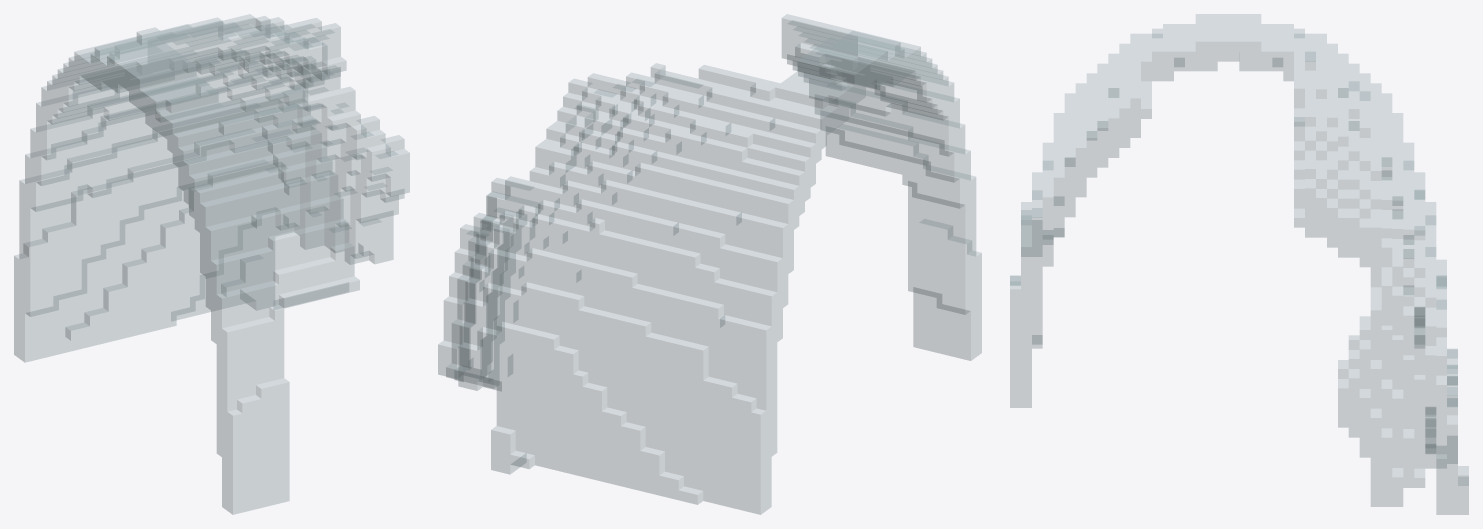
File: crashed_light_helicopter_canopy.glb
3 renders of one model, left to right at view 1: azimuth 30°, elevation 25°; view 2: azimuth 150°, elevation 25°; view 3: azimuth 270°, elevation 25°, orthographic.
Visible parts, largest first — view 1: body:compound; view 2: body:compound; view 3: body:compound.
Boxes of the visible parts, x1,y1,x2,y2 form: body:compound: (14, 14, 409, 514); body:compound: (438, 14, 981, 514); body:compound: (1010, 14, 1468, 514).
Size of the model in its own units: 1.12 by 1.19 by 1.31.
